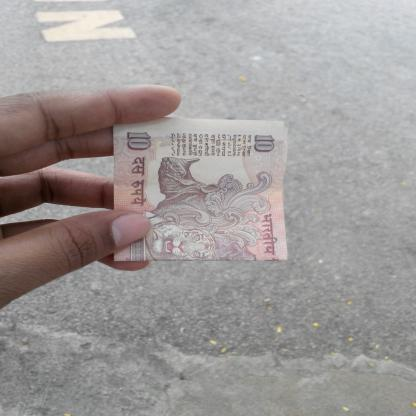Old10Back: (112, 119, 292, 263)
